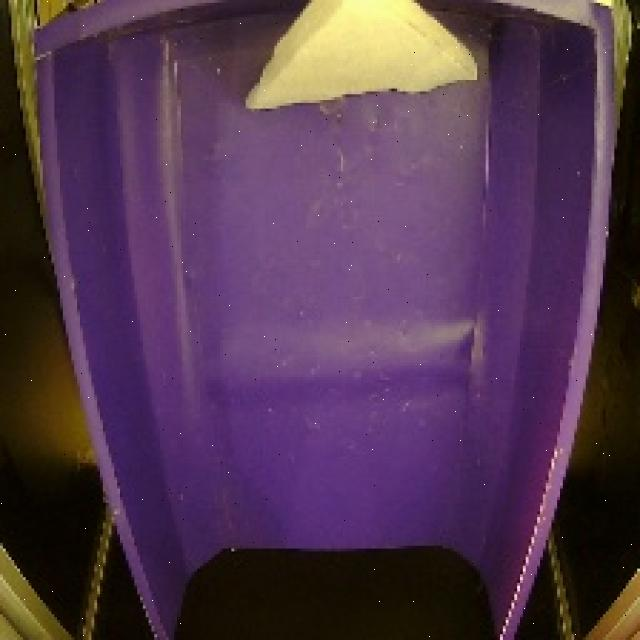china: (229, 0, 488, 130)
